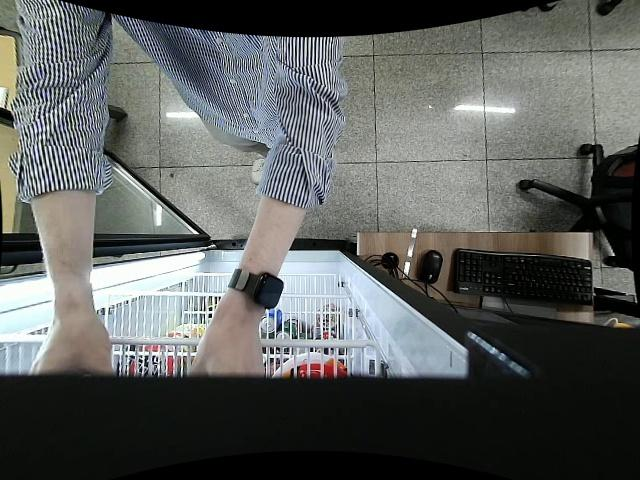00_hand: (25, 324, 114, 381), (183, 334, 263, 380)
